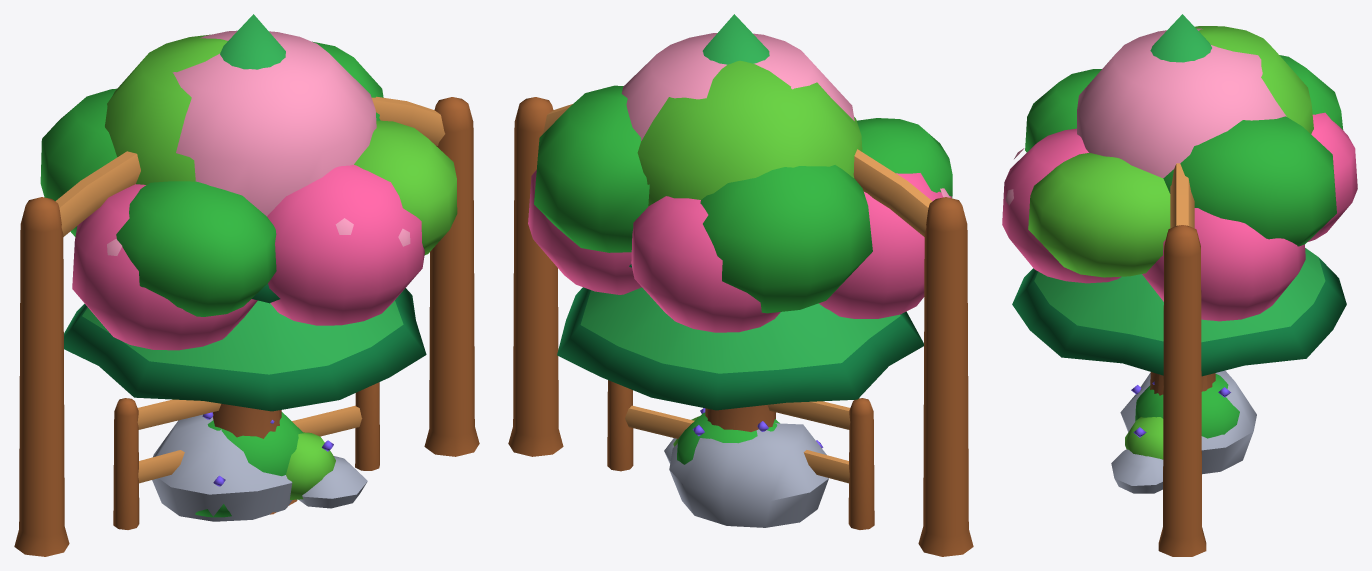
File: scenery.glb
3 views of the same model, side by side, from view 1: azimuth 30°, elevation 25°; view 2: azimuth 150°, elevation 25°; view 3: azimuth 270°, elevation 25° (orthographic). The views are drawn at different scales.
Parts seen in each view (by area): view 1: tree_blossom, tree_round, gate, tree_pine, rock, fence, bush; view 2: tree_round, gate, tree_blossom, tree_pine, rock, fence, bush; view 3: tree_round, tree_blossom, tree_pine, gate, rock, bush.
Boxes of the visible parts, x1,y1,x2,y2 form: tree_blossom: (72, 30, 424, 507); tree_round: (40, 34, 457, 514); gate: (14, 96, 479, 556); tree_pine: (64, 14, 426, 411); rock: (152, 414, 367, 521); fence: (113, 382, 379, 529); bush: (195, 412, 335, 517); tree_round: (534, 60, 952, 431); gate: (508, 97, 973, 556); tree_blossom: (528, 33, 951, 429); tree_pine: (557, 14, 923, 410); rock: (664, 423, 828, 527); fence: (607, 380, 874, 529); bush: (673, 408, 823, 464); tree_round: (1025, 26, 1343, 395); tree_blossom: (1002, 28, 1357, 393); tree_pine: (1012, 14, 1346, 376); gate: (1158, 163, 1206, 556); rock: (1111, 370, 1256, 493); bush: (1125, 374, 1239, 459).
Bounding box in the file's own units: 3.77 × 3.81 × 2.76.
